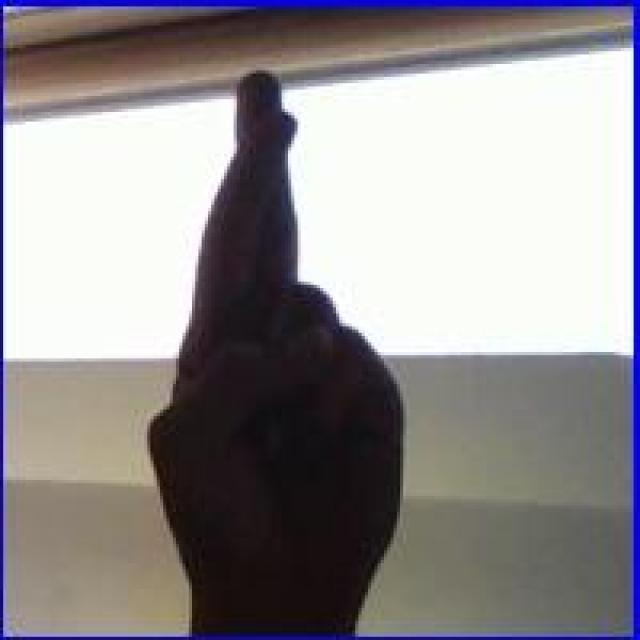R: (144, 65, 413, 626)
